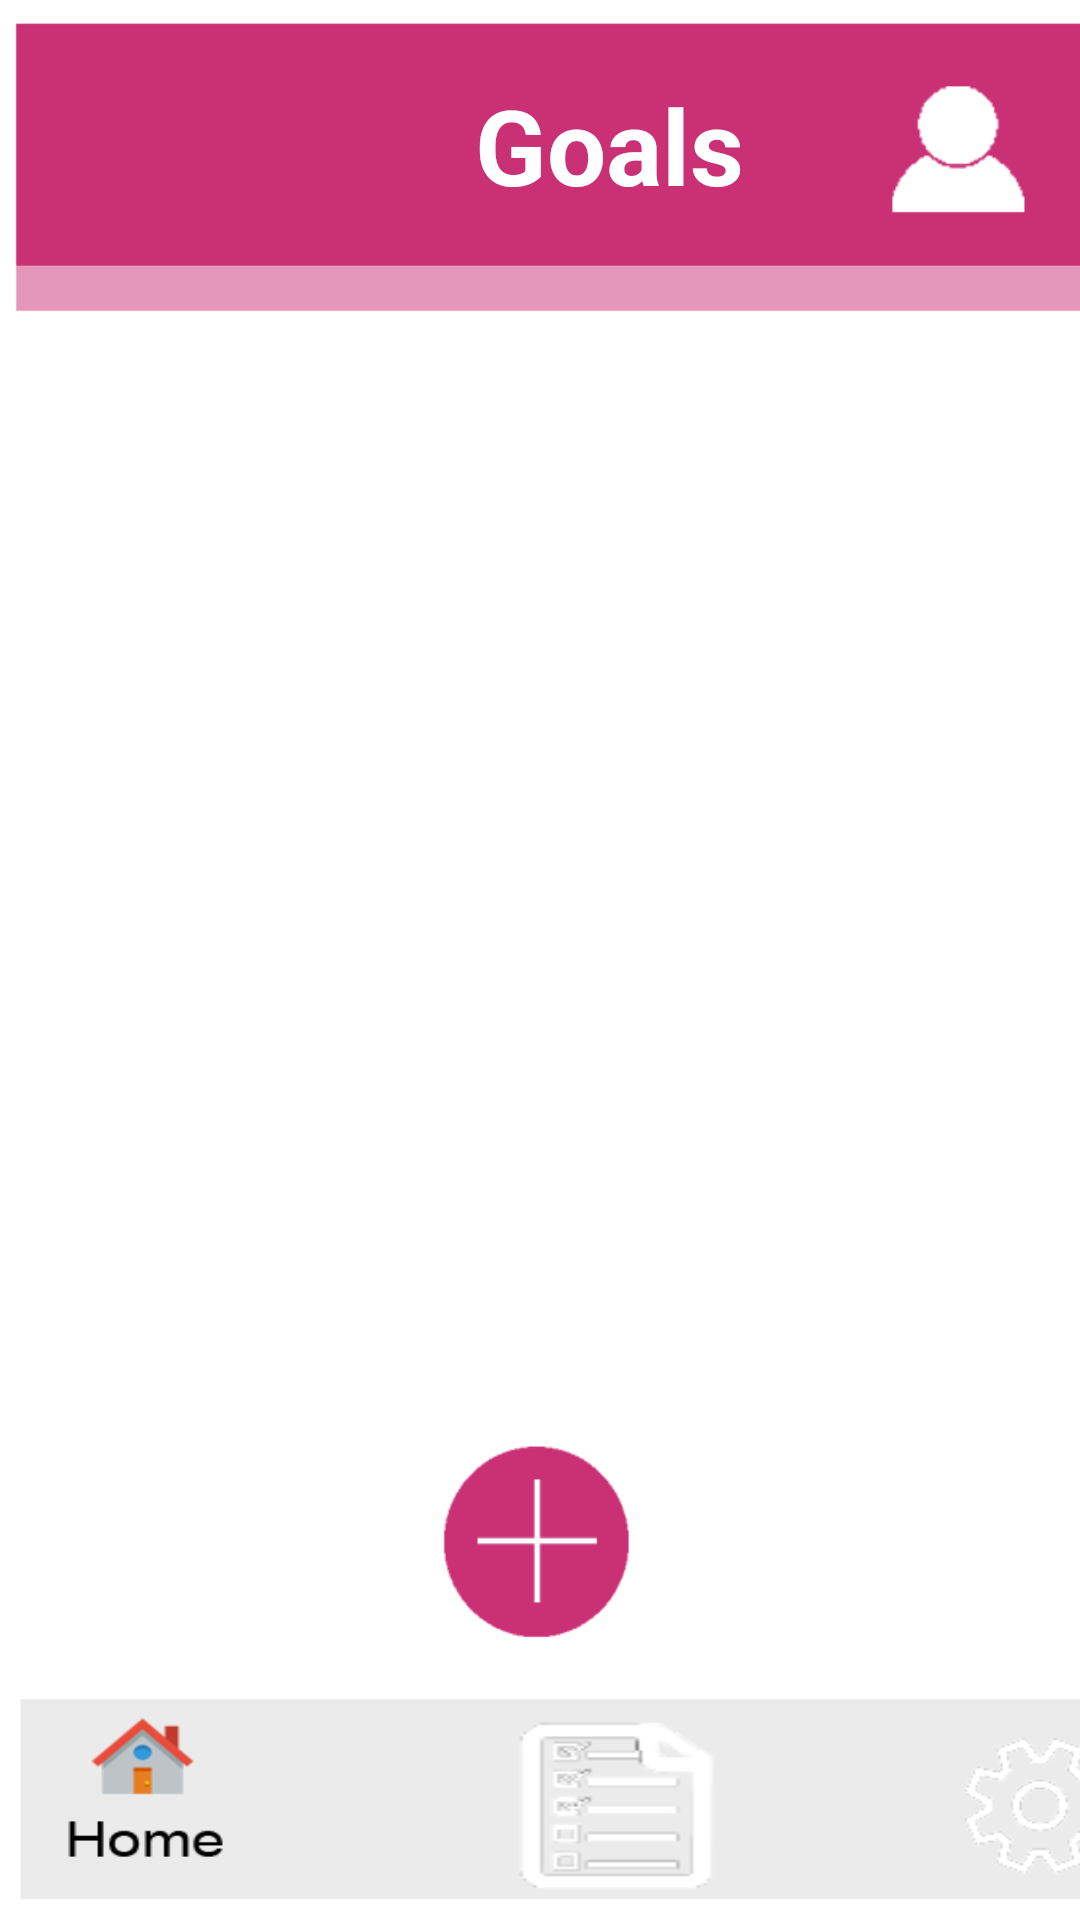

Icons on this 1080 × 1920 Android screen, each with the point to tap as [x,y]:
add: [536,1541]
